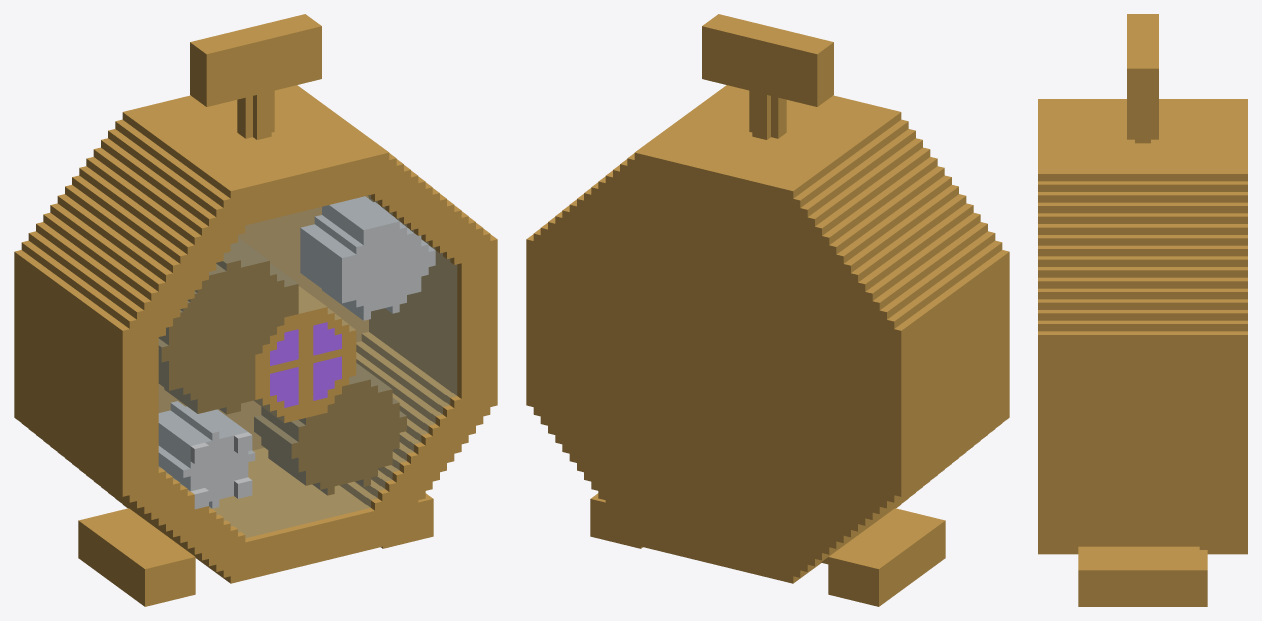
Rendered from clockwork_rune_case.glb.
3 views of the same model, side by side, from view 1: azimuth 30°, elevation 25°; view 2: azimuth 150°, elevation 25°; view 3: azimuth 270°, elevation 25° (orthographic). The views are drawn at different scales.
Visible parts, largest first — view 1: clockwork_rune_case:compound; view 2: clockwork_rune_case:compound; view 3: clockwork_rune_case:compound.
Part boxes in pixels (<box>): clockwork_rune_case:compound: <box>14,14,497,606</box>; clockwork_rune_case:compound: <box>526,14,1009,606</box>; clockwork_rune_case:compound: <box>1038,14,1247,606</box>.
Size of the model in its own units: 0.104 by 0.136 by 0.052.
